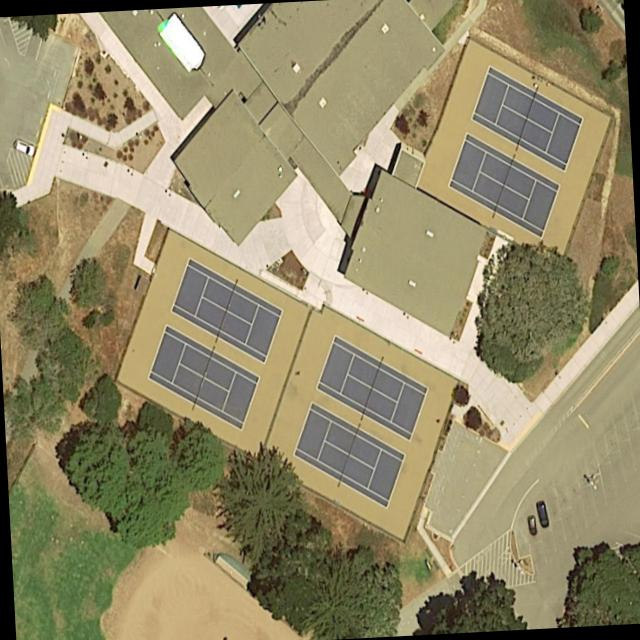small-vehicle: (13, 136, 37, 157), (536, 500, 550, 527), (526, 513, 539, 535)
